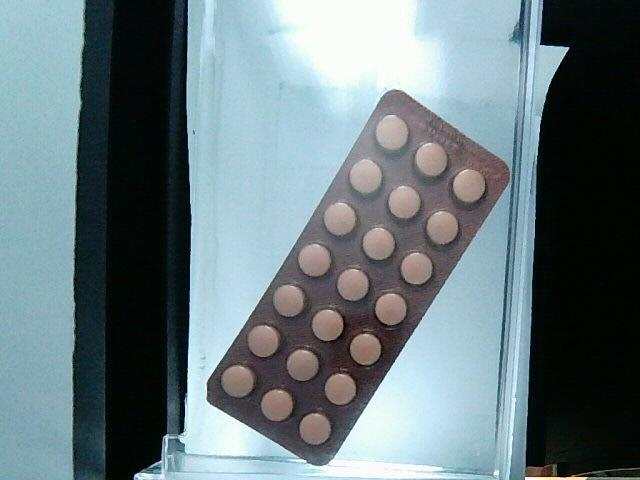Light Front: (208, 90, 509, 464)
Pill Front: (374, 288, 410, 326), (413, 139, 448, 178), (285, 342, 320, 381), (349, 328, 384, 367), (351, 153, 381, 198), (398, 247, 432, 285), (336, 264, 370, 302), (362, 221, 395, 260), (260, 382, 292, 422), (322, 200, 356, 236), (220, 362, 254, 398), (427, 210, 460, 247), (387, 185, 421, 220), (452, 167, 485, 203), (297, 242, 330, 278), (374, 112, 405, 150), (246, 321, 279, 356), (303, 412, 335, 448), (323, 368, 355, 404), (313, 305, 344, 340), (272, 284, 304, 316)
